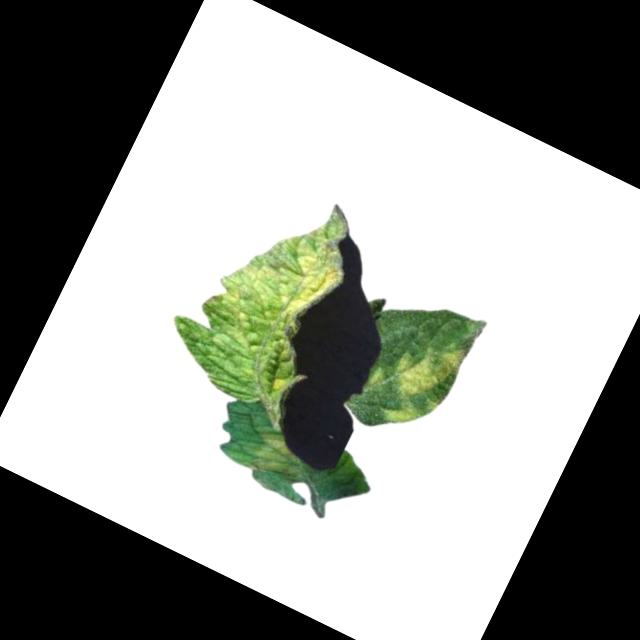Leaf_Mold: (209, 206, 356, 355), (372, 325, 471, 442), (248, 429, 309, 486)
